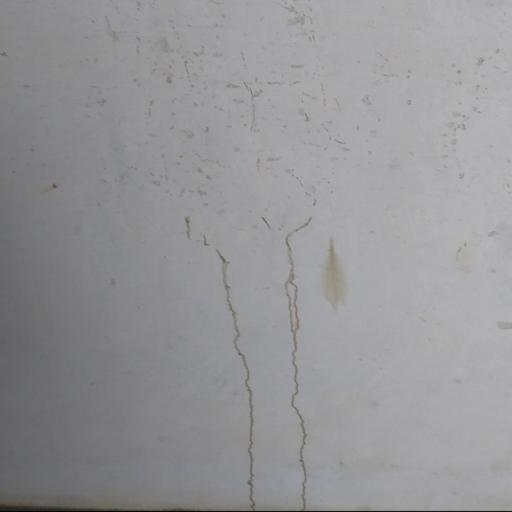stain: (99, 7, 448, 223), (167, 150, 361, 512)
